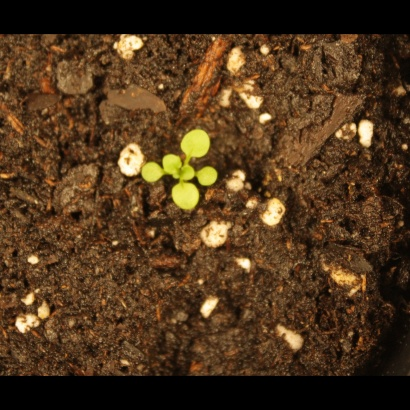leaf: (180, 126, 214, 161), (170, 181, 206, 212), (136, 158, 163, 185), (196, 164, 222, 189), (161, 152, 184, 177), (178, 162, 201, 185)
